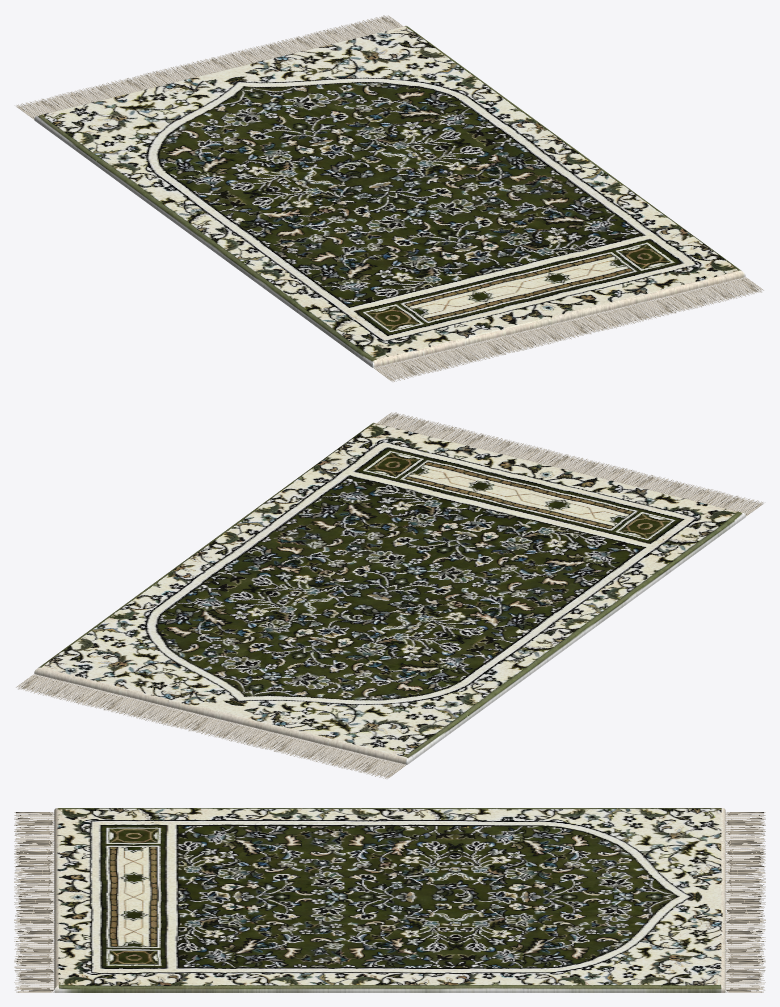
3 renders of one model, top to bottom at view 1: azimuth 30°, elevation 25°; view 2: azimuth 150°, elevation 25°; view 3: azimuth 270°, elevation 25°, orthographic.
Parts seen in each view (by area): view 1: k16; view 2: k16; view 3: k16.
Part boxes in pixels (left/top/right/bottom): k16: left=16, top=15, right=763, bottom=381; k16: left=16, top=412, right=763, bottom=778; k16: left=14, top=808, right=765, bottom=992.
Size of the model in its own units: 0.7 by 0.0105 by 1.23.
3 materials, 2 textured.
